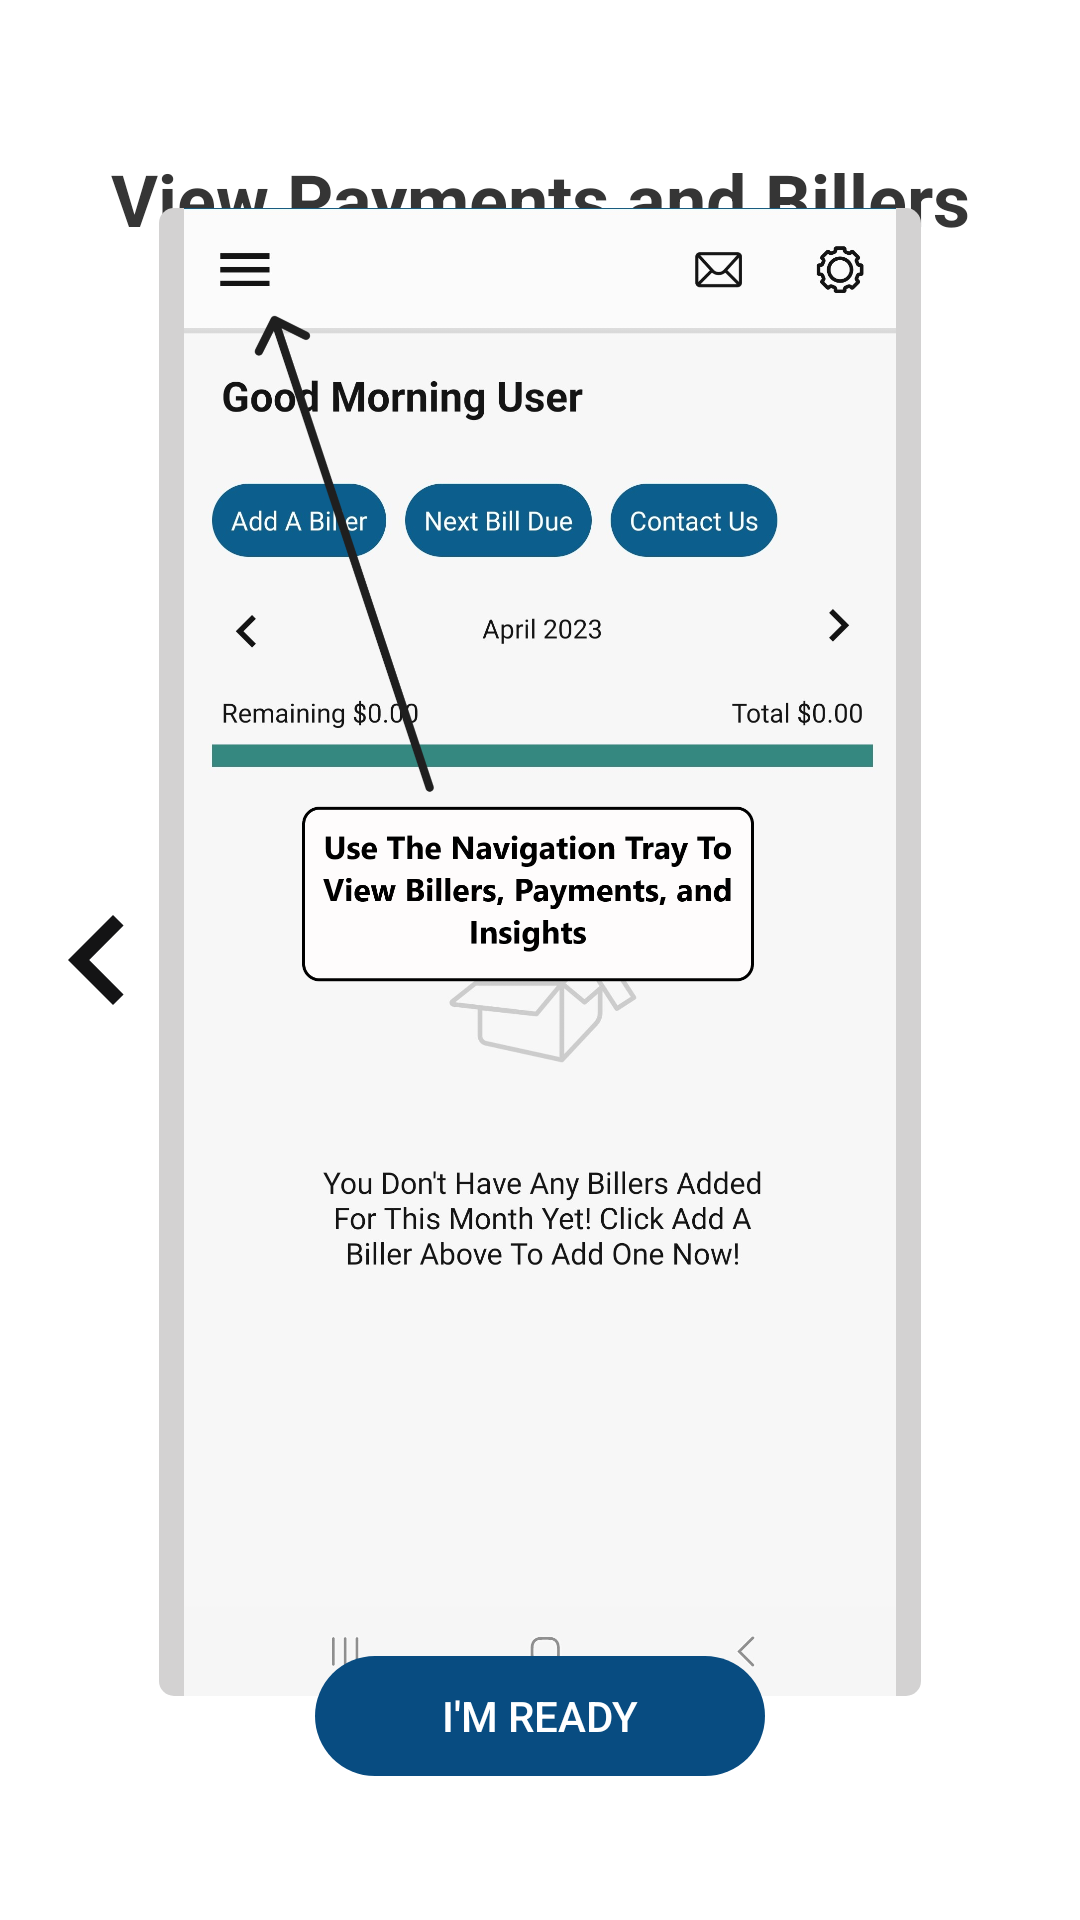

Icons on this 1080×1920 Android screen, each with the point to tap as point (x, y):
Back Arrow: point (126, 960)
